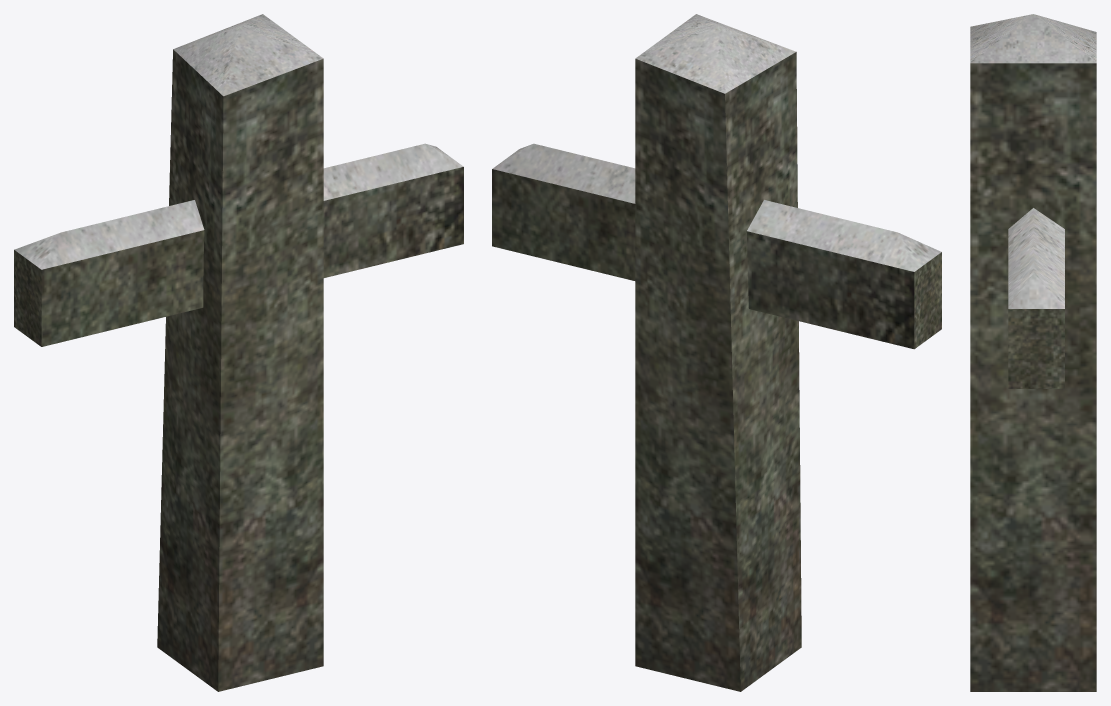
Rendered from tombstone_small_05_snow.fbx.
3 views of the same model, side by side, from view 1: azimuth 30°, elevation 25°; view 2: azimuth 150°, elevation 25°; view 3: azimuth 270°, elevation 25° (orthographic). The views are drawn at different scales.
Parts seen in each view (by area): view 1: mesh_0, mesh_2, mesh_3, mesh_1; view 2: mesh_0, mesh_2, mesh_3, mesh_1; view 3: mesh_0, mesh_1, mesh_3, mesh_2.
Part boxes in pixels (box(x1,y1,x2,y2)): mesh_0: box(157, 49, 323, 691); mesh_2: box(14, 167, 463, 346); mesh_3: box(14, 143, 463, 269); mesh_1: box(173, 14, 323, 96); mesh_0: box(635, 52, 801, 691); mesh_2: box(492, 169, 941, 349); mesh_3: box(492, 143, 941, 271); mesh_1: box(635, 14, 795, 93); mesh_0: box(970, 63, 1096, 691); mesh_1: box(970, 14, 1096, 63); mesh_3: box(1008, 208, 1064, 308); mesh_2: box(1008, 309, 1064, 388).
Size of the model in its own units: 80 by 114 by 20.
Materials: 2 (2 with a texture image).
